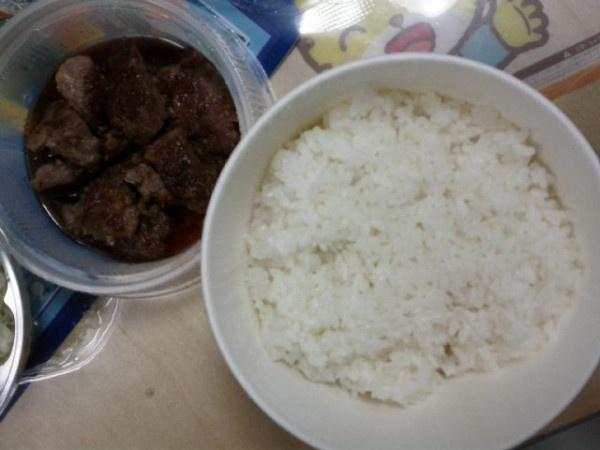rice: (244, 89, 584, 407)
